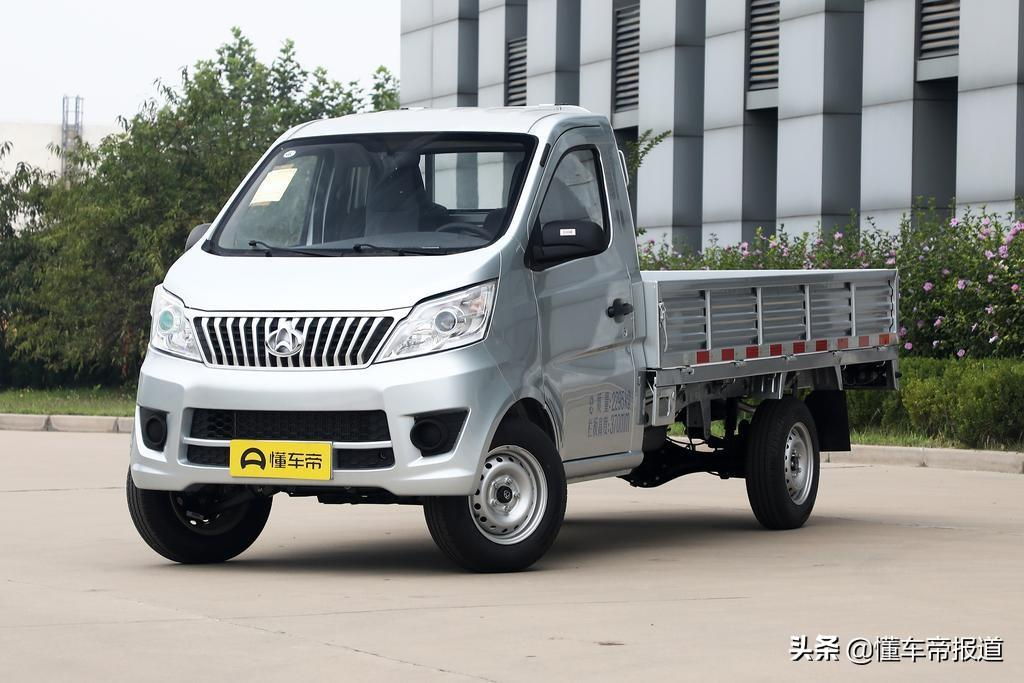smalltruck: (107, 88, 903, 573)
